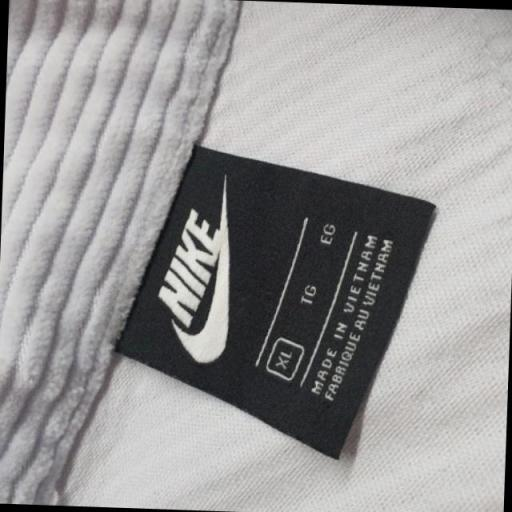Nike: (153, 205, 219, 328), (194, 242, 234, 368)
